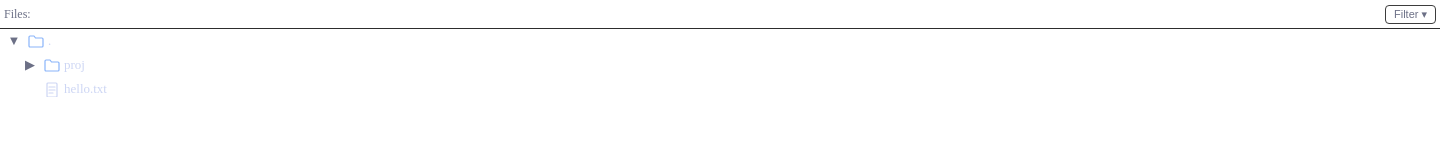
Test: FileTree readOnly / features › hides the built-in github toolbar and context-menu items when the github feature is disabled
The width and height of the screenshot is (1440, 160).
Right-click the text "proj" at (74, 65), box [64,57,85,73]
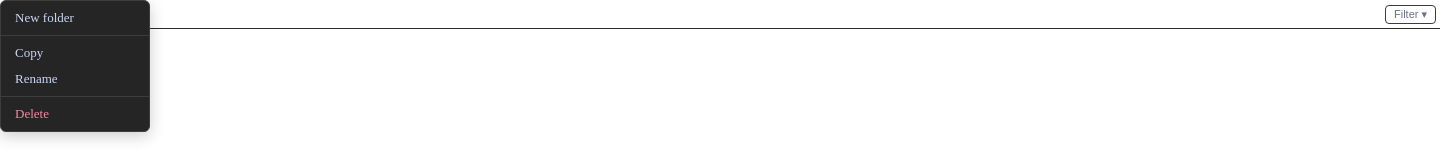
expect the text "Copy" is shown: met, box [15,45,43,60]
